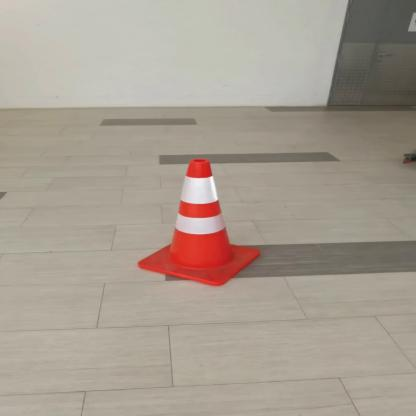cone: (122, 156, 272, 287)
